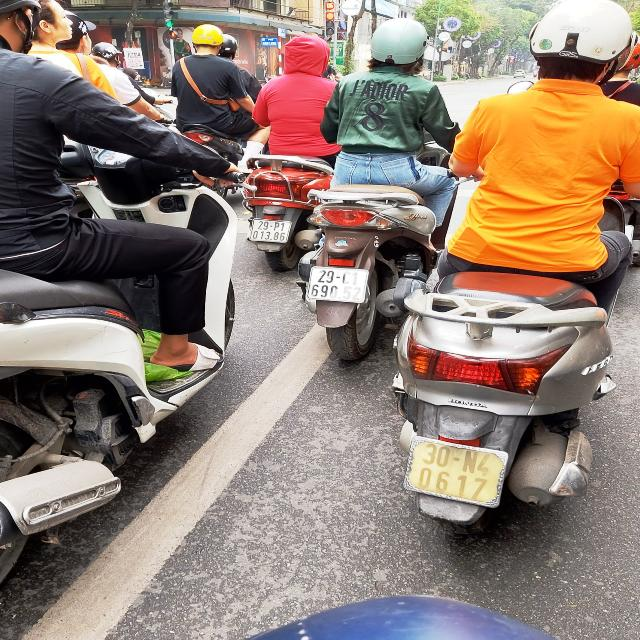license_plate: (400, 433, 516, 514), (305, 265, 375, 307), (248, 218, 296, 246)
